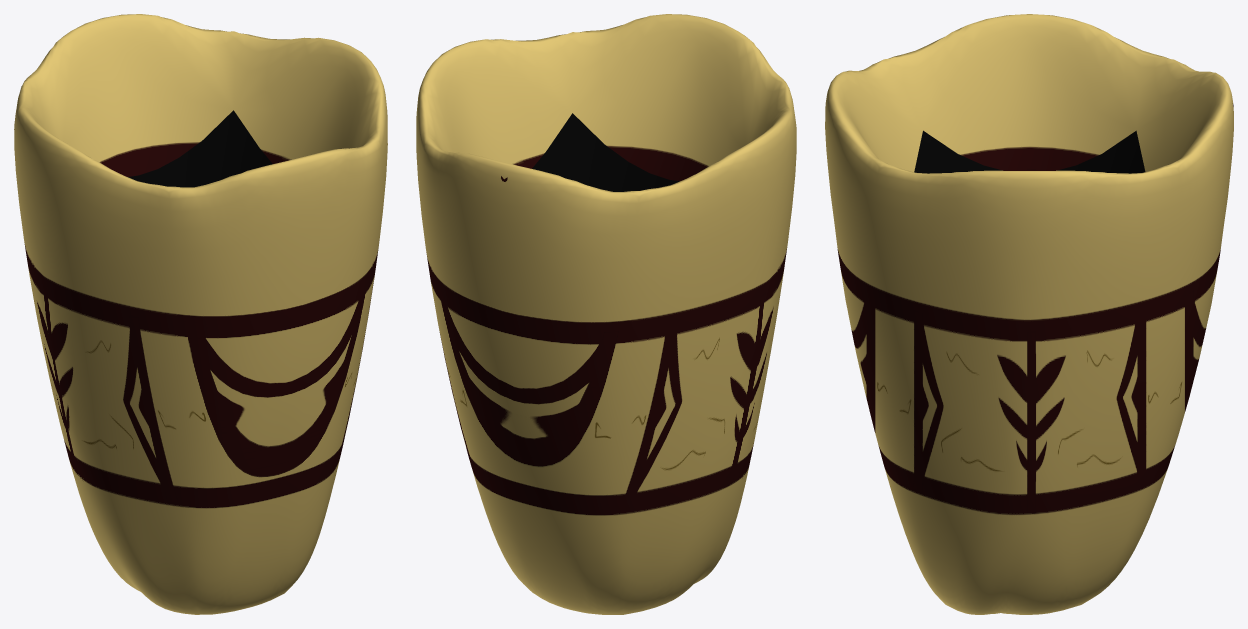
Rendered from meso pot big.fbx.
3 renders of one model, left to right at view 1: azimuth 30°, elevation 25°; view 2: azimuth 150°, elevation 25°; view 3: azimuth 270°, elevation 25°, orthographic.
Visible parts, largest first — view 1: pCube1; view 2: pCube1; view 3: pCube1.
Boxes of the visible parts, box(x1,y1,x2,y2) form: pCube1: box(14, 14, 387, 614); pCube1: box(416, 14, 796, 614); pCube1: box(825, 14, 1233, 614).
Size of the model in its own units: 46.16 by 65.6 by 48.46.
3 materials, 2 textured.
